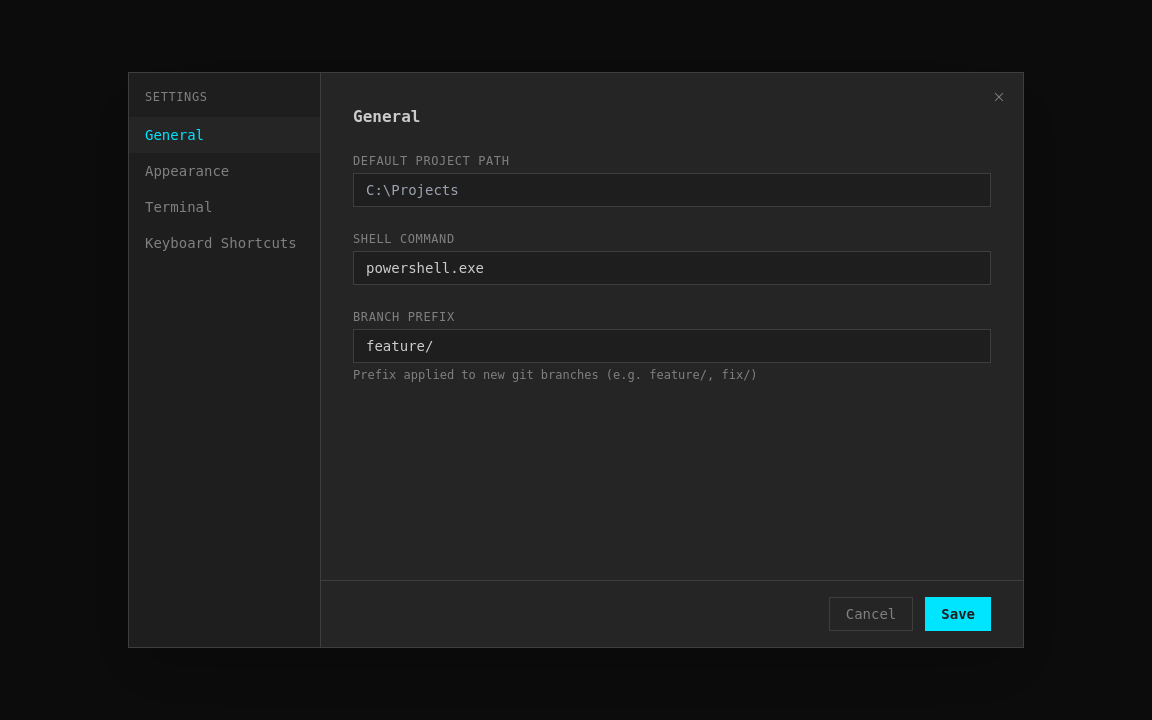
Scenario: SettingsModal › navigates to Appearance page
Step 1. Click the button with test id "settings-nav-appearance" → (224, 171), box [129, 153, 320, 189]
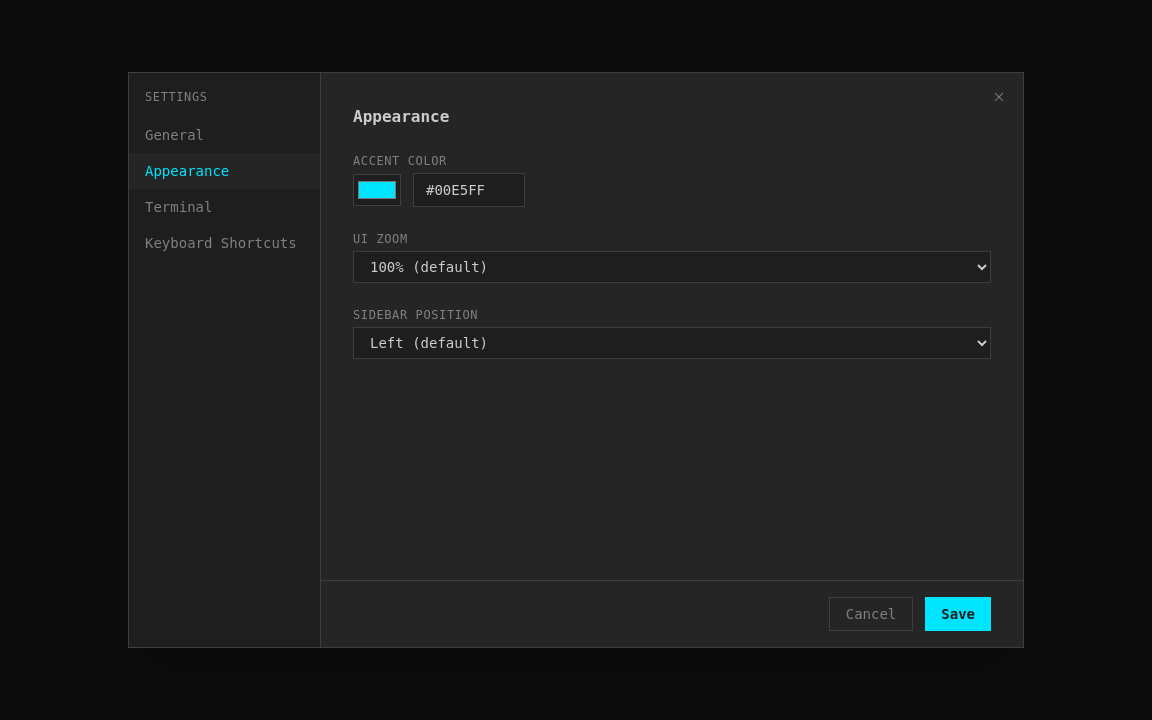
Now the element with test id "settings-page-appearance" is shown, box [353, 105, 991, 359]
